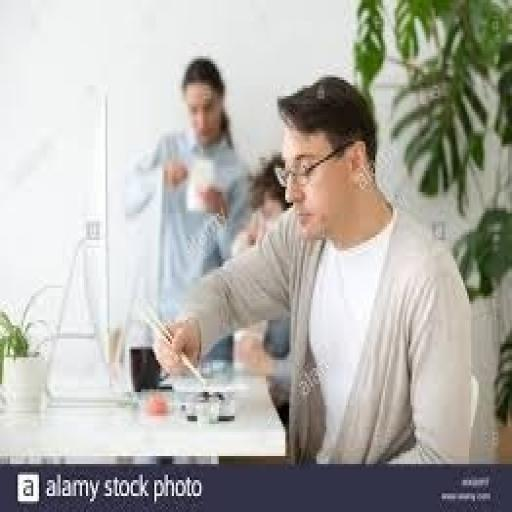eating: (150, 72, 475, 464), (119, 53, 256, 384)
